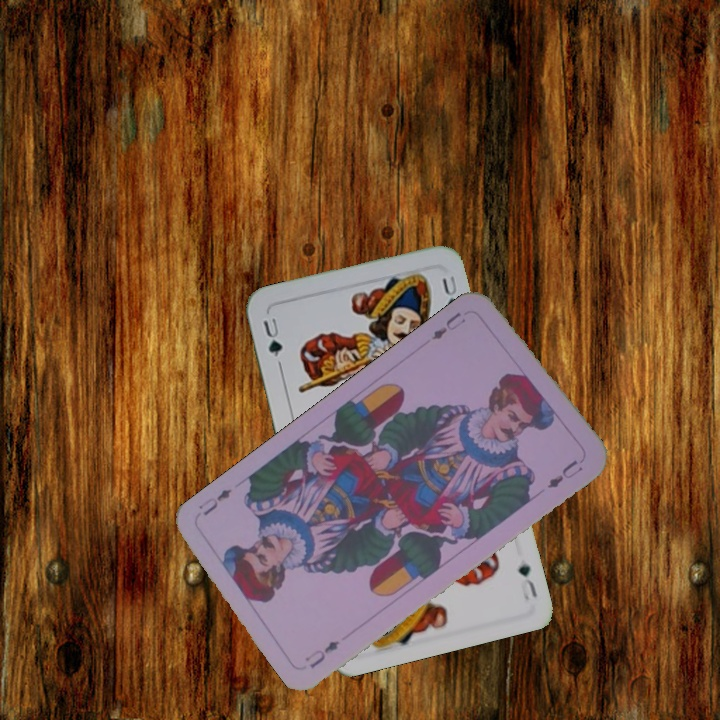EU: (428, 308, 469, 343), (301, 636, 342, 671)
GU: (259, 313, 286, 369), (514, 559, 540, 603)
